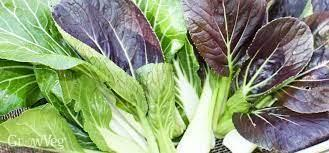Healthy-Pechay: (0, 2, 329, 153)
